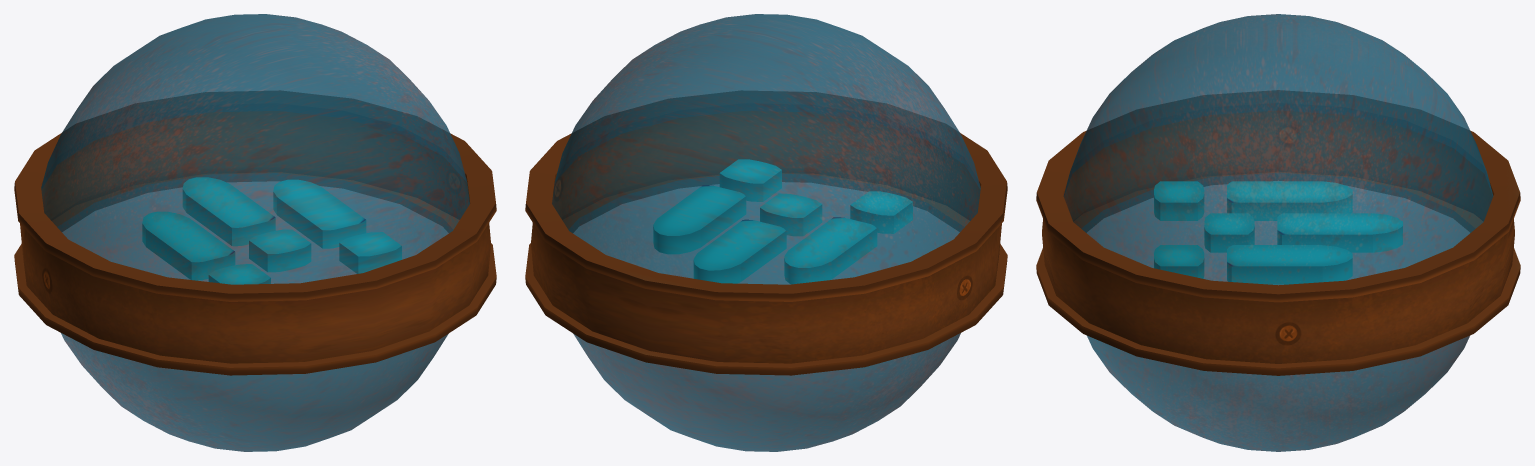
The model's file is Ammo 1.fbx.
3 renders of one model, left to right at view 1: azimuth 30°, elevation 25°; view 2: azimuth 150°, elevation 25°; view 3: azimuth 270°, elevation 25°, orthographic.
Parts seen in each view (by area): view 1: Ammo, polySurface9, polySurface7; view 2: Ammo, polySurface9, polySurface7; view 3: Ammo, polySurface9, polySurface7.
Boxes of the visible parts, bbox=[...] form: Ammo: bbox=[14, 91, 496, 375]; polySurface9: bbox=[41, 14, 469, 284]; polySurface7: bbox=[58, 173, 452, 451]; Ammo: bbox=[525, 91, 1007, 375]; polySurface9: bbox=[552, 14, 980, 284]; polySurface7: bbox=[569, 174, 963, 451]; Ammo: bbox=[1036, 90, 1520, 375]; polySurface9: bbox=[1063, 14, 1493, 285]; polySurface7: bbox=[1082, 173, 1474, 451].
Size of the model in its own units: 111 by 100 by 111.
